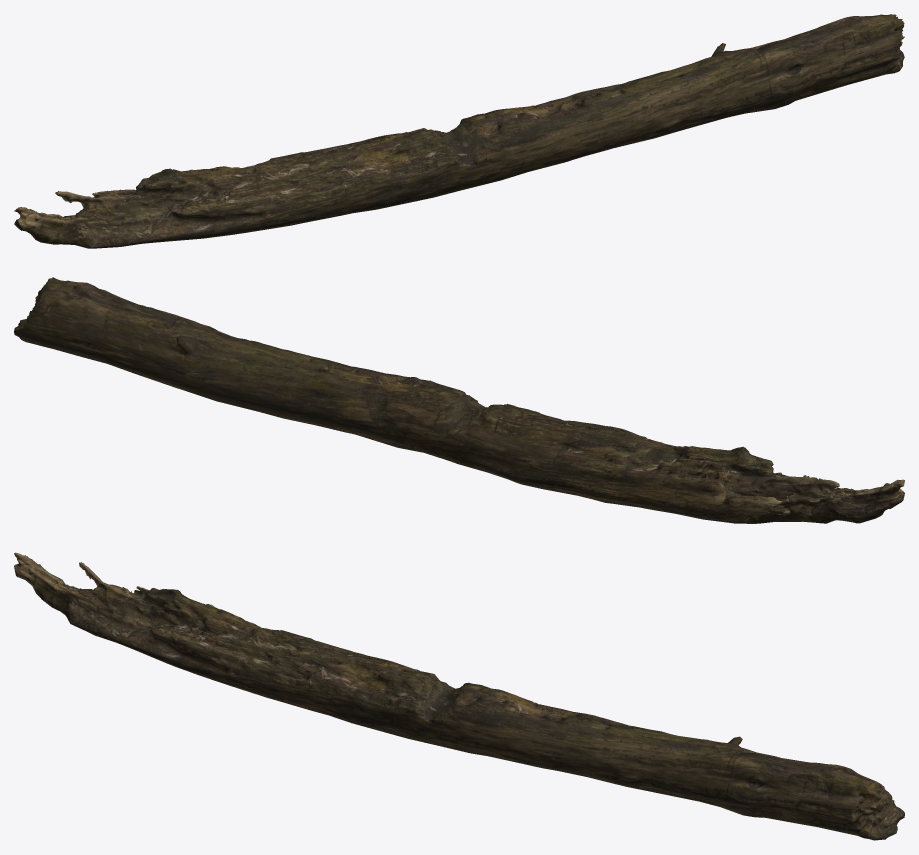
File: dead_tree_trunk.glb
3 renders of one model, top to bottom at view 1: azimuth 30°, elevation 25°; view 2: azimuth 150°, elevation 25°; view 3: azimuth 330°, elevation 25°, orthographic.
Visible parts, largest first — view 1: dead_tree_trunk; view 2: dead_tree_trunk; view 3: dead_tree_trunk.
Part boxes in pixels (bbox=[...]): dead_tree_trunk: bbox=[14, 14, 904, 248]; dead_tree_trunk: bbox=[14, 277, 904, 523]; dead_tree_trunk: bbox=[14, 552, 904, 840].
Size of the model in its own units: 3.05 by 0.2898 by 0.2771.
Materials: 1 (1 with a texture image).
